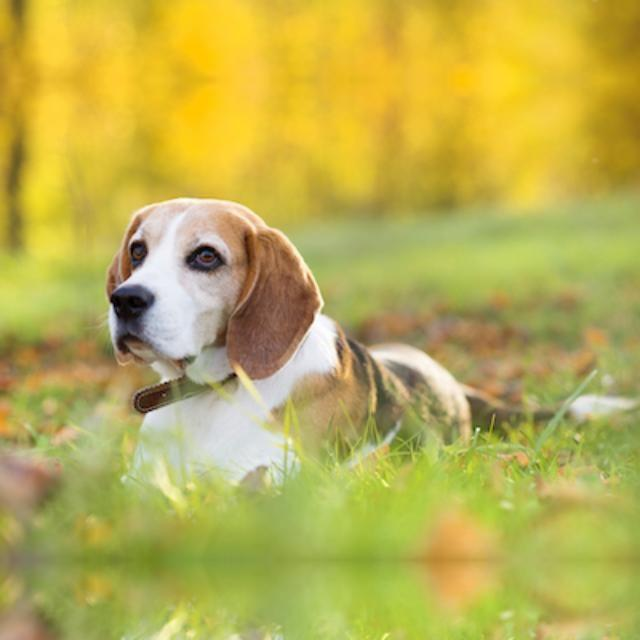dog: (96, 187, 328, 403)
